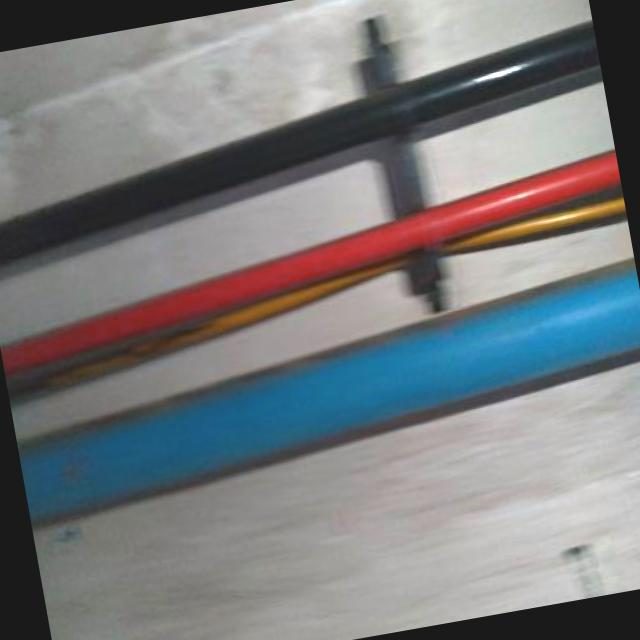gas: (17, 258, 640, 528), (0, 22, 601, 278), (1, 148, 619, 382)
